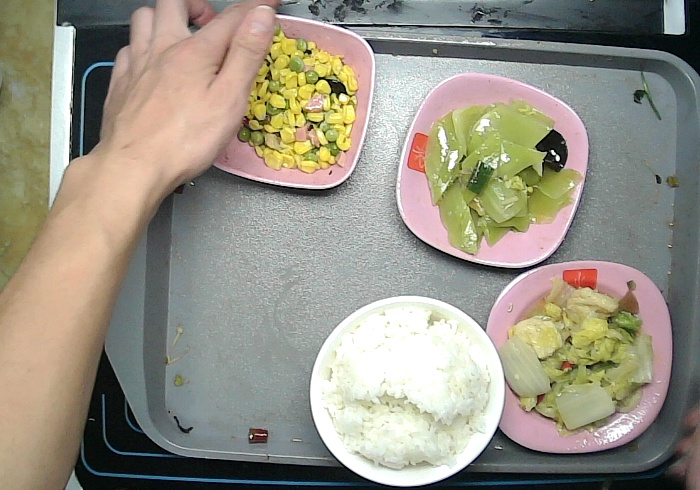SHKJ-Fan_Wan: (307, 295, 503, 484)
SHKJ-Fen_Se_Cai_Die: (394, 72, 595, 271)
SHKJ-Fen_Se_Si_Fang_Cai_Die: (488, 262, 674, 456)
SHKJ-Fen_Se_Xiao_Fang_Die: (201, 11, 374, 197)
